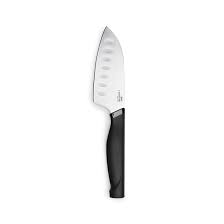knife: (92, 25, 127, 199)
